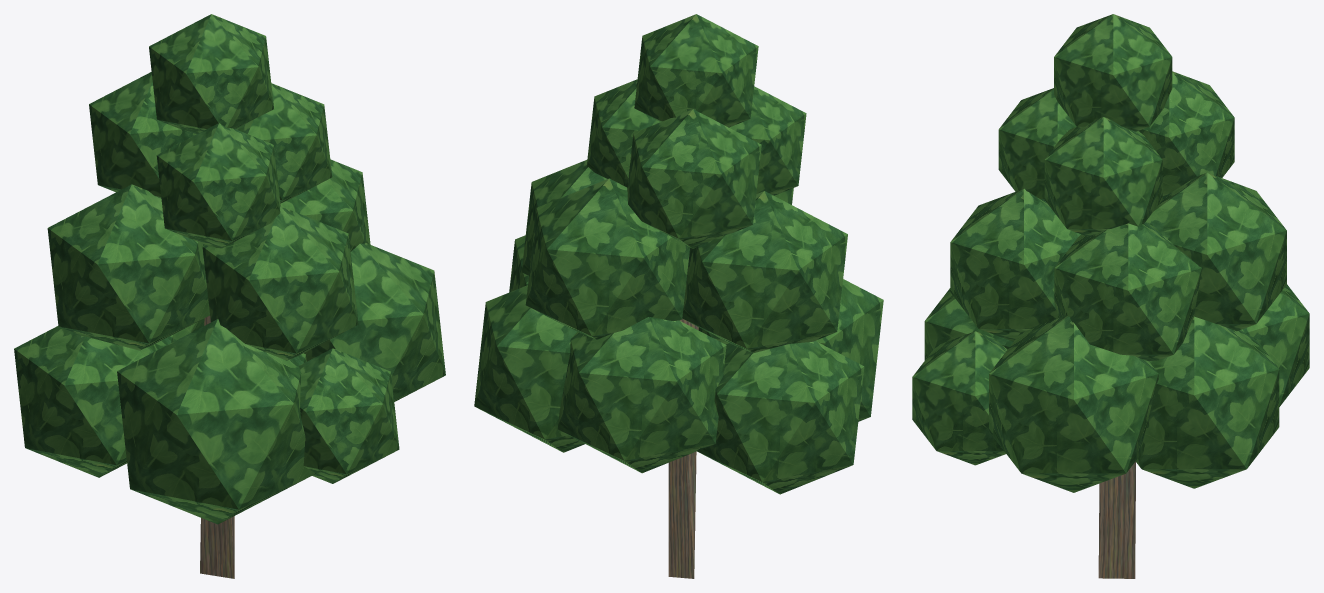
File: tulip_poplar_2_low_poly.fbx
The picture shows the model from 3 angles, left to right: view 1: azimuth 30°, elevation 25°; view 2: azimuth 150°, elevation 25°; view 3: azimuth 270°, elevation 25°; orthographic projection.
Visible parts, largest first — view 1: Icosphere.001, Cylinder; view 2: Icosphere.001, Cylinder; view 3: Icosphere.001, Cylinder.
Part boxes in pixels (bbox=[...]): Icosphere.001: bbox=[14, 14, 445, 524]; Cylinder: bbox=[200, 315, 234, 578]; Icosphere.001: bbox=[474, 14, 883, 494]; Cylinder: bbox=[668, 319, 698, 578]; Icosphere.001: bbox=[912, 14, 1309, 492]; Cylinder: bbox=[1098, 461, 1135, 578].
Size of the model in its own units: 511 by 732 by 474.
